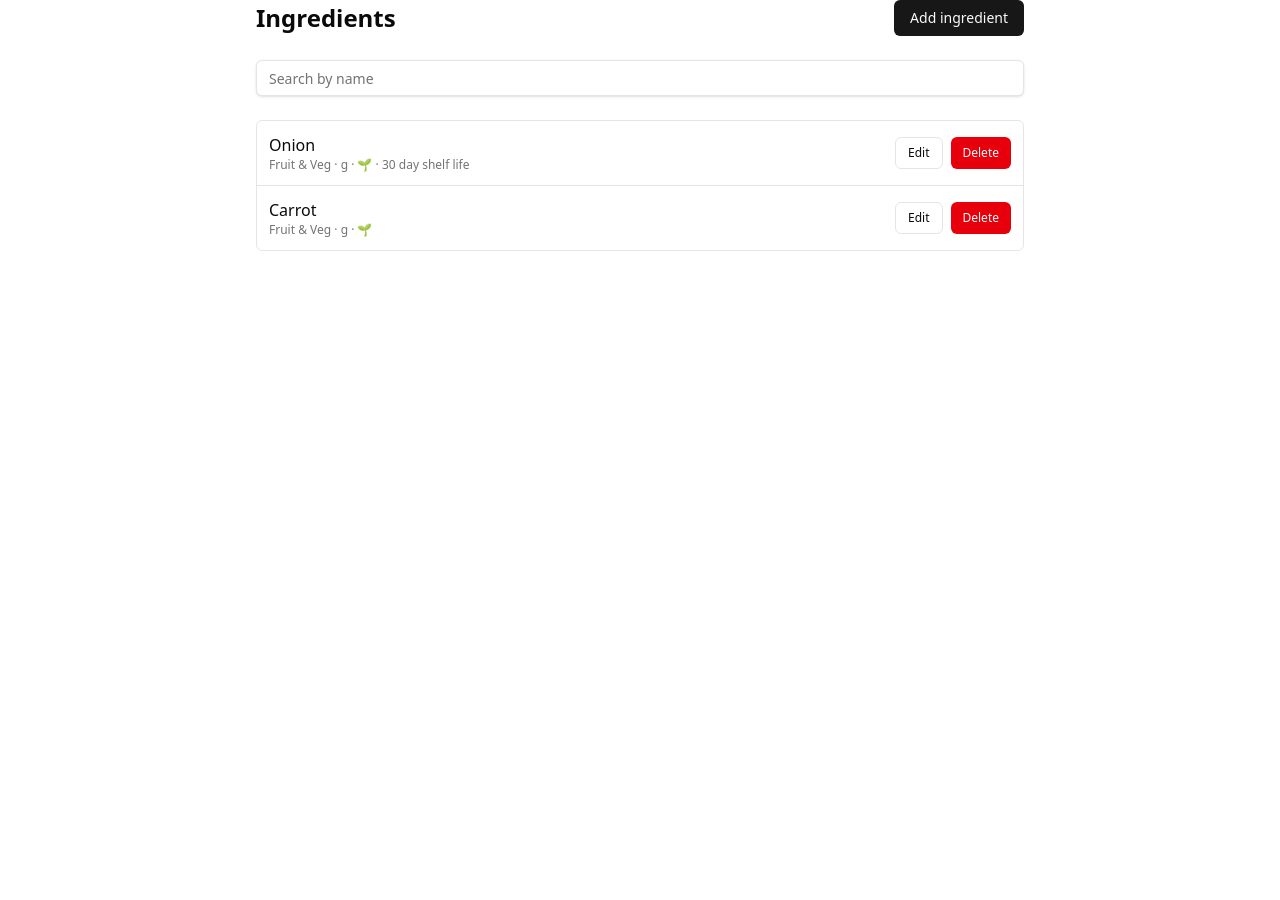
IngredientsPage › surfaces INGREDIENT_IN_USE in the delete dialog
Click the button "Delete" in the row of "Onion".
click(981, 153)  # box [950,137,1011,169]
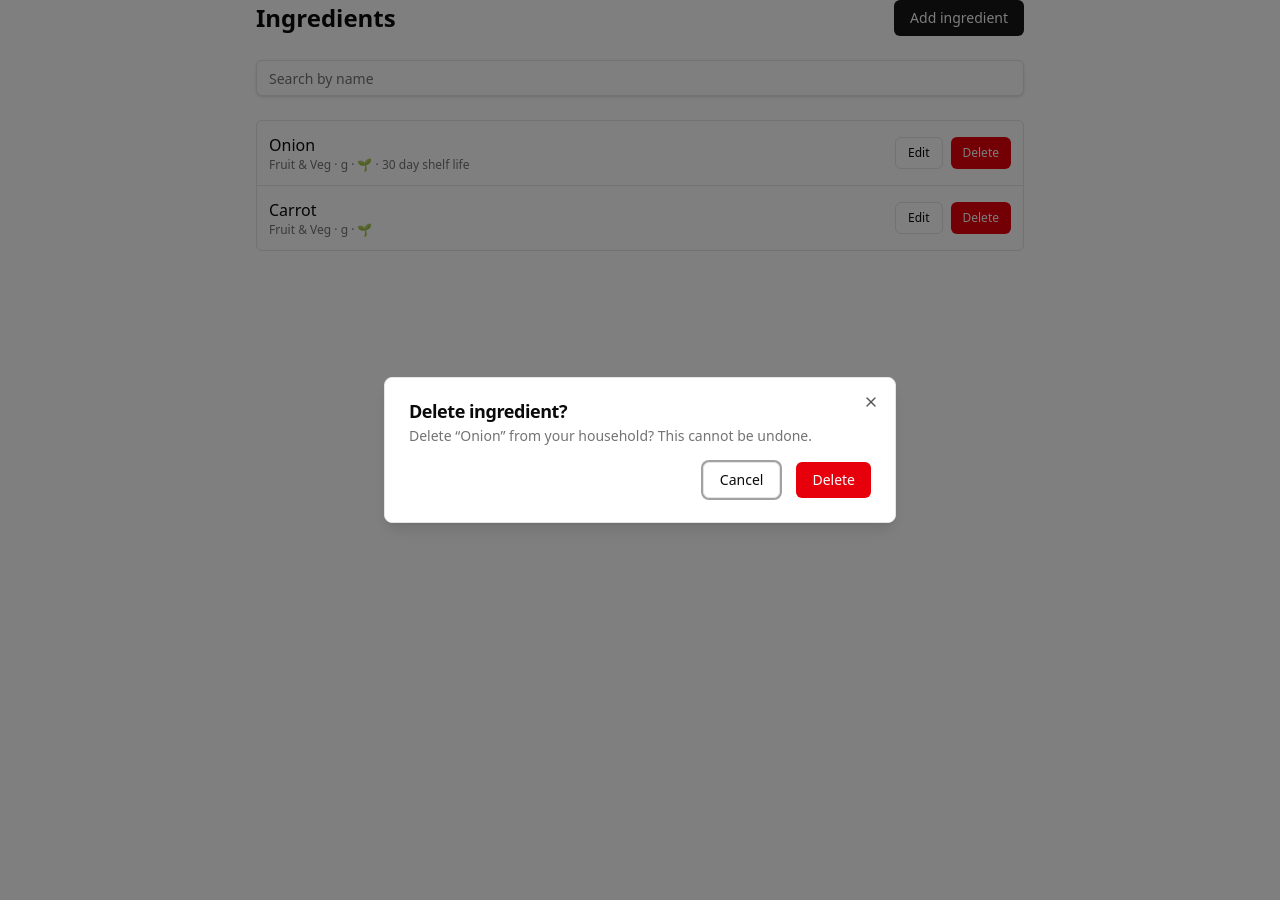
Click the button "Delete".
click(834, 480)  # box [796,462,871,498]
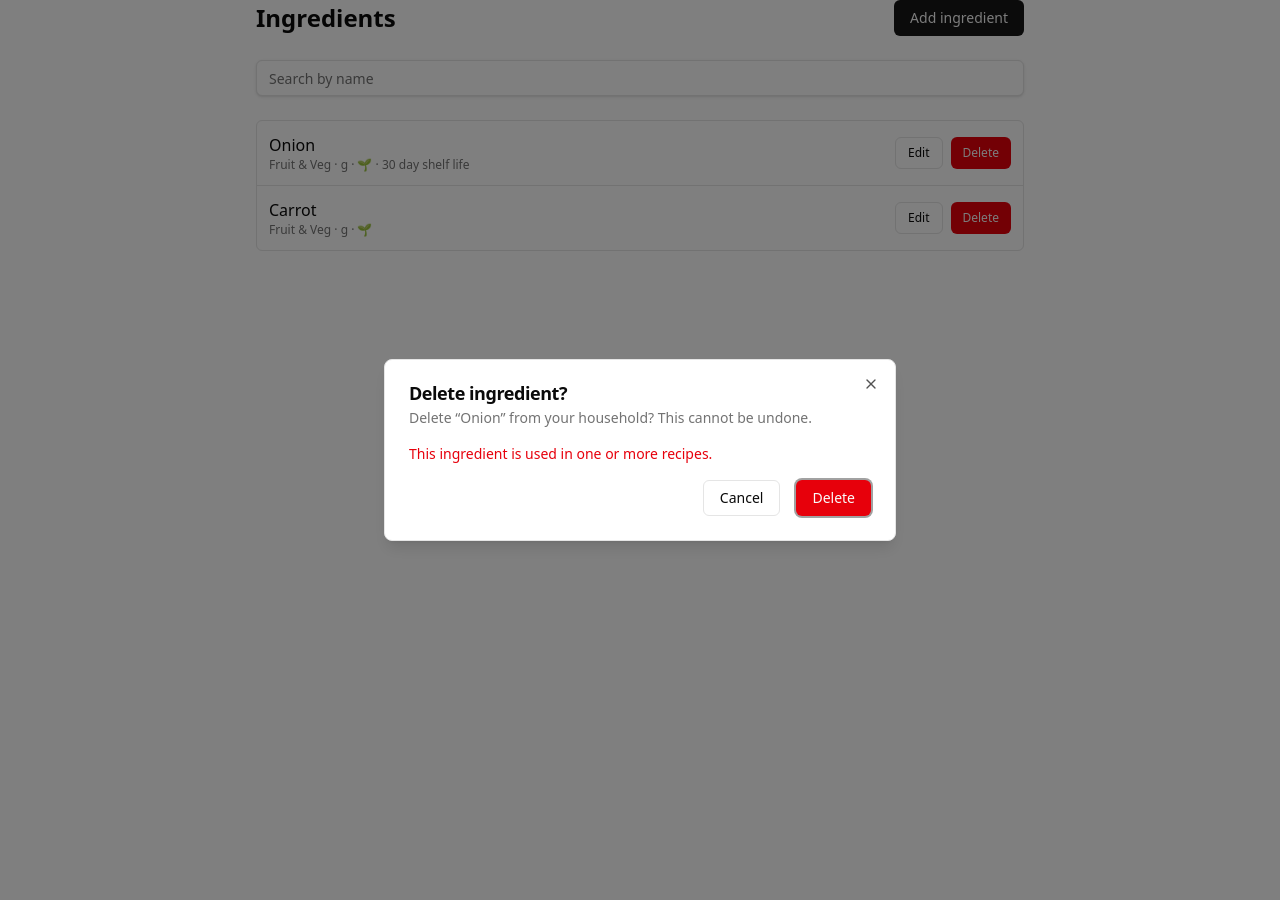
expect the message shows "used in one or more recipes": met, box [409,444,712,463]
